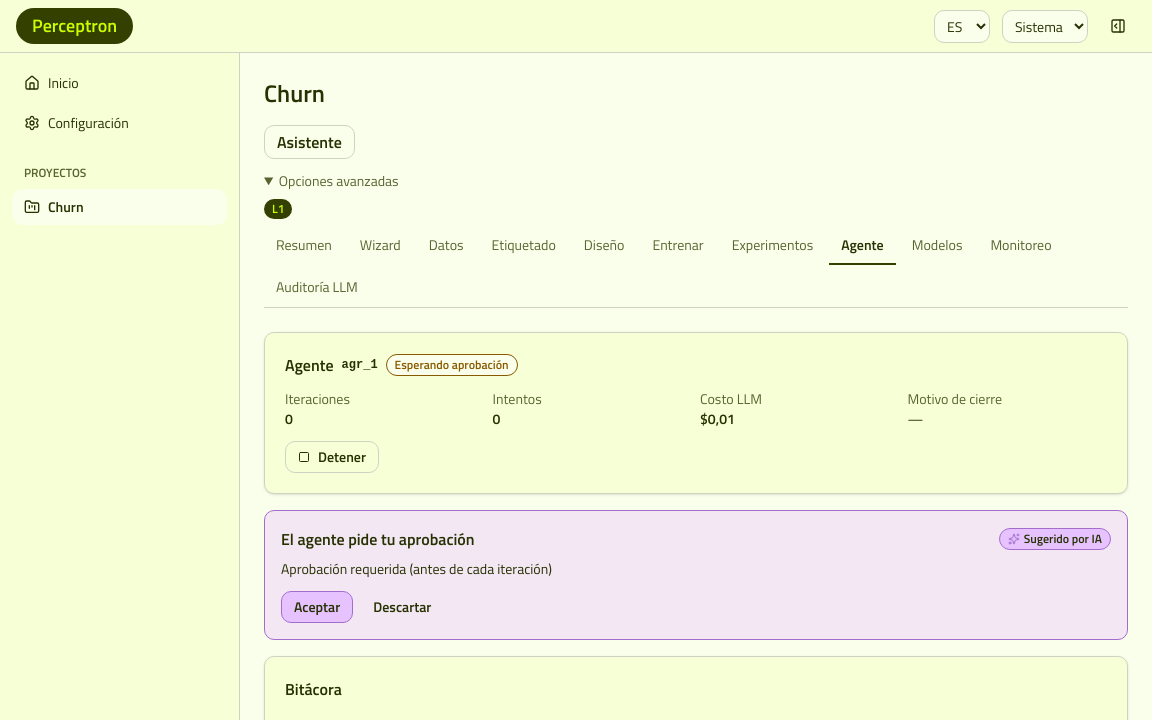
Test: wizard y copiloto › agente: pide aprobación y la registra
expect the heading "El agente pide tu aprobación" is shown: met, box [281, 527, 475, 551]
expect the text "Aprobación requerida (antes de cada iteración)" is shown: met, box [281, 558, 552, 579]
Click the button "Aceptar". click: [317, 607]
box: [281, 591, 353, 623]
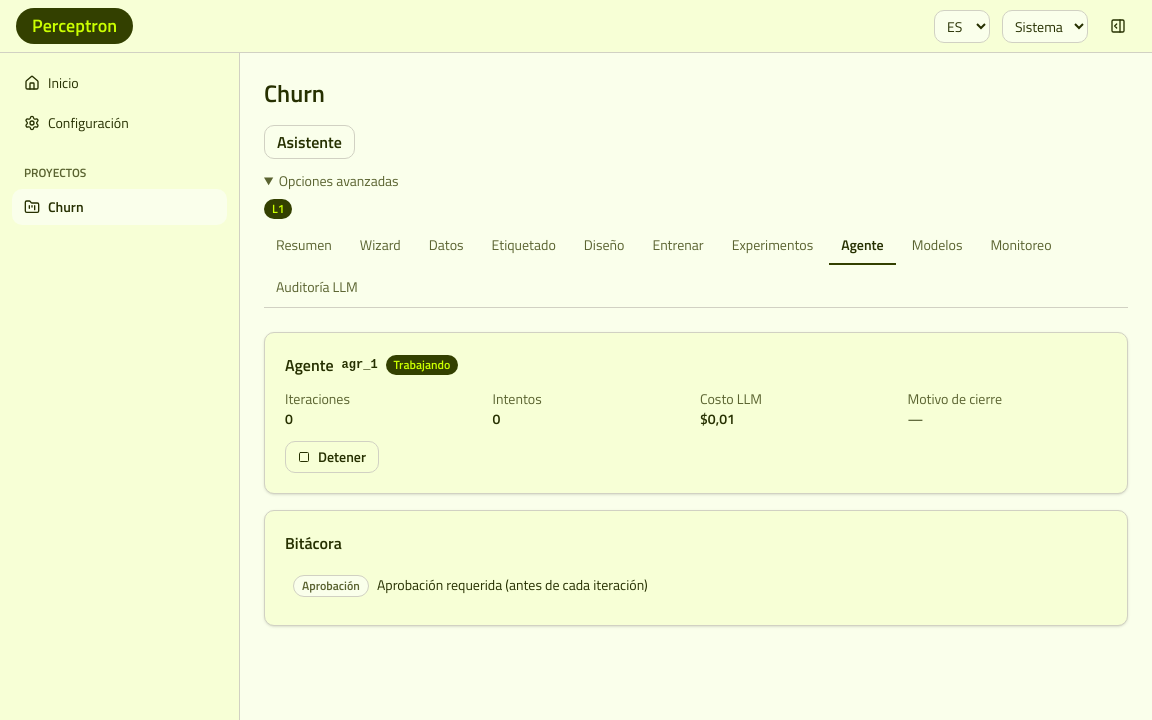
expect the text "Trabajando" is shown: met, box [386, 355, 458, 375]
